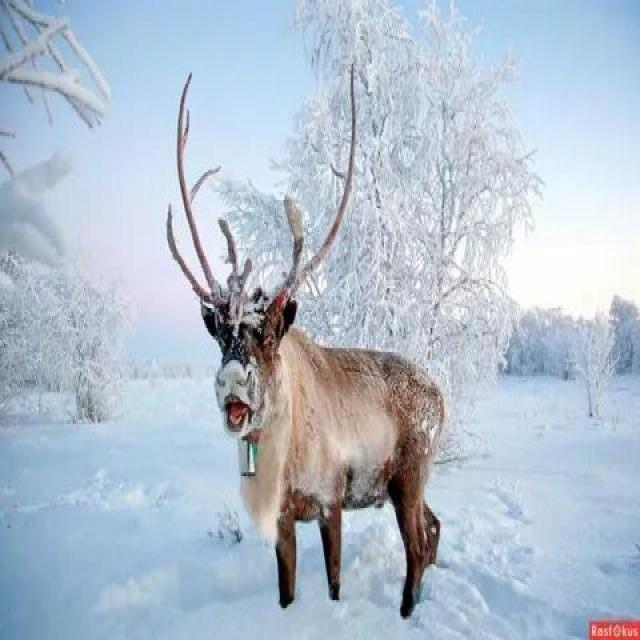deer: (150, 132, 481, 609)
